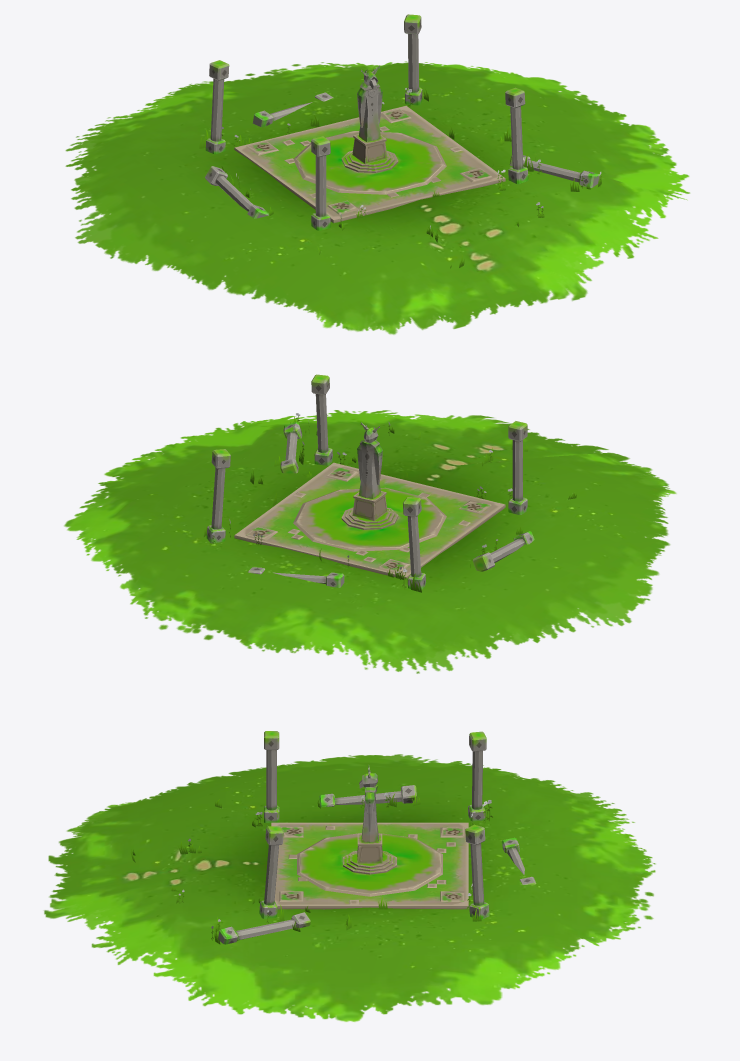
The picture shows the model from 3 angles, top to bottom: view 1: azimuth 30°, elevation 25°; view 2: azimuth 150°, elevation 25°; view 3: azimuth 270°, elevation 25°; orthographic projection.
Visible parts, largest first — view 1: Groundlush1_Groundlush_0, Cubicplatform_Cubic_0, polySurface60_Pillar2_0, Circularbase_Circular_0, StatueDeity2_StatueDeity_0, polySurface81_Grass_0; view 2: Groundlush1_Groundlush_0, Cubicplatform_Cubic_0, polySurface60_Pillar2_0, Circularbase_Circular_0, StatueDeity2_StatueDeity_0, polySurface81_Grass_0; view 3: Groundlush1_Groundlush_0, Cubicplatform_Cubic_0, polySurface60_Pillar2_0, Circularbase_Circular_0, StatueDeity2_StatueDeity_0, polySurface81_Grass_0.
Boxes of the visible parts, x1,y1,x2,y2 form: Groundlush1_Groundlush_0: (65,61,689,334); Cubicplatform_Cubic_0: (234,105,505,223); polySurface60_Pillar2_0: (205,14,600,230); Circularbase_Circular_0: (293,131,446,194); StatueDeity2_StatueDeity_0: (352,65,387,164); polySurface81_Grass_0: (199,89,601,268); Groundlush1_Groundlush_0: (64,410,676,673); Cubicplatform_Cubic_0: (234,462,505,579); polySurface60_Pillar2_0: (206,374,534,589); Circularbase_Circular_0: (293,487,446,551); StatueDeity2_StatueDeity_0: (352,422,387,520); polySurface81_Grass_0: (203,416,576,592); Groundlush1_Groundlush_0: (44,754,655,1021); Cubicplatform_Cubic_0: (271,822,468,909); polySurface60_Pillar2_0: (218,731,536,944); Circularbase_Circular_0: (297,833,442,896); StatueDeity2_StatueDeity_0: (357,765,382,863); polySurface81_Grass_0: (131,793,488,944).
Bounding box in the file's own units: 31.11 × 6.14 × 31.11.
Materials: 7 (7 with a texture image).
